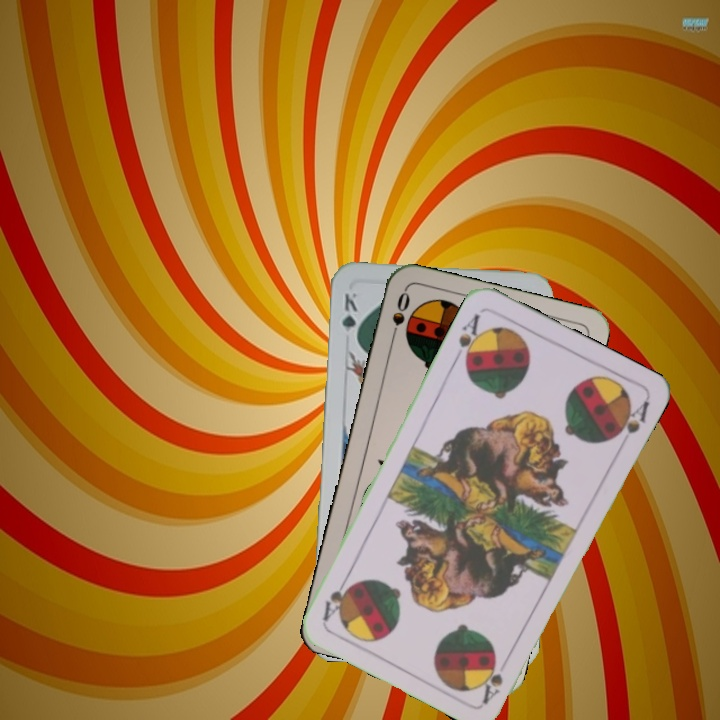GK: (337, 288, 360, 346)
SA: (450, 309, 486, 367), (478, 651, 513, 706)
SO: (386, 288, 413, 345)
